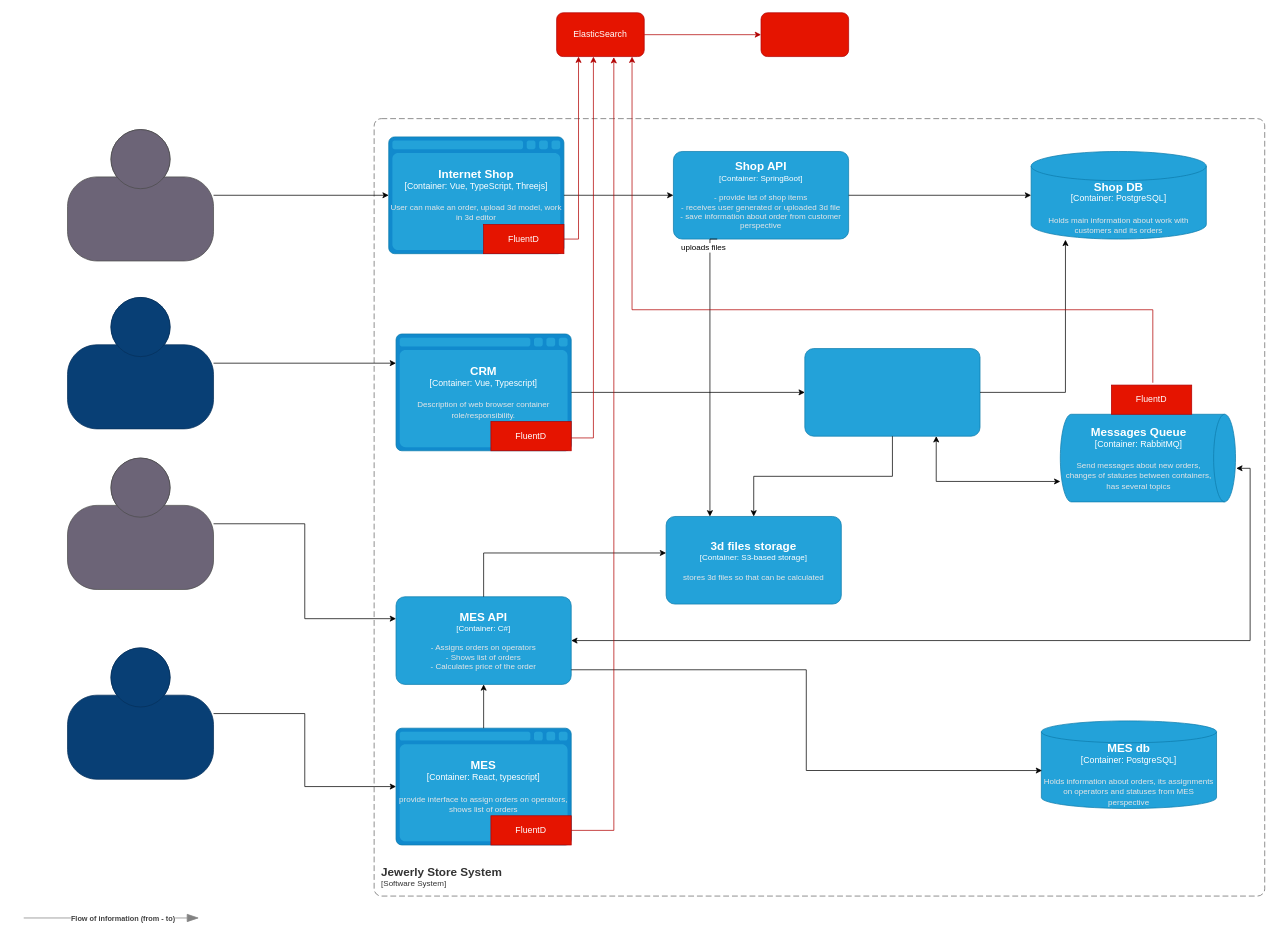
The diagram is 1278 pixels wide and 942 high, and some of its shapes have lost their labels. The shapes that lost their labels are listed below. From the top down, each one's centre as x and y in pixels, then its label:
At (x=804, y=34): "Kibana".
At (x=140, y=195): "Customer [Person] Description of external person.".
At (x=140, y=363): "Seller [Person] Operates with order, confirms manufacturing for the user".
At (x=892, y=392): "CRM API [Container: SpringBoot] Description of container role/responsibility.".
At (x=140, y=523): "API user [Person] Description of external person.".
At (x=140, y=713): "Operator [Person] Takes order in work, manufactures jewerly".
